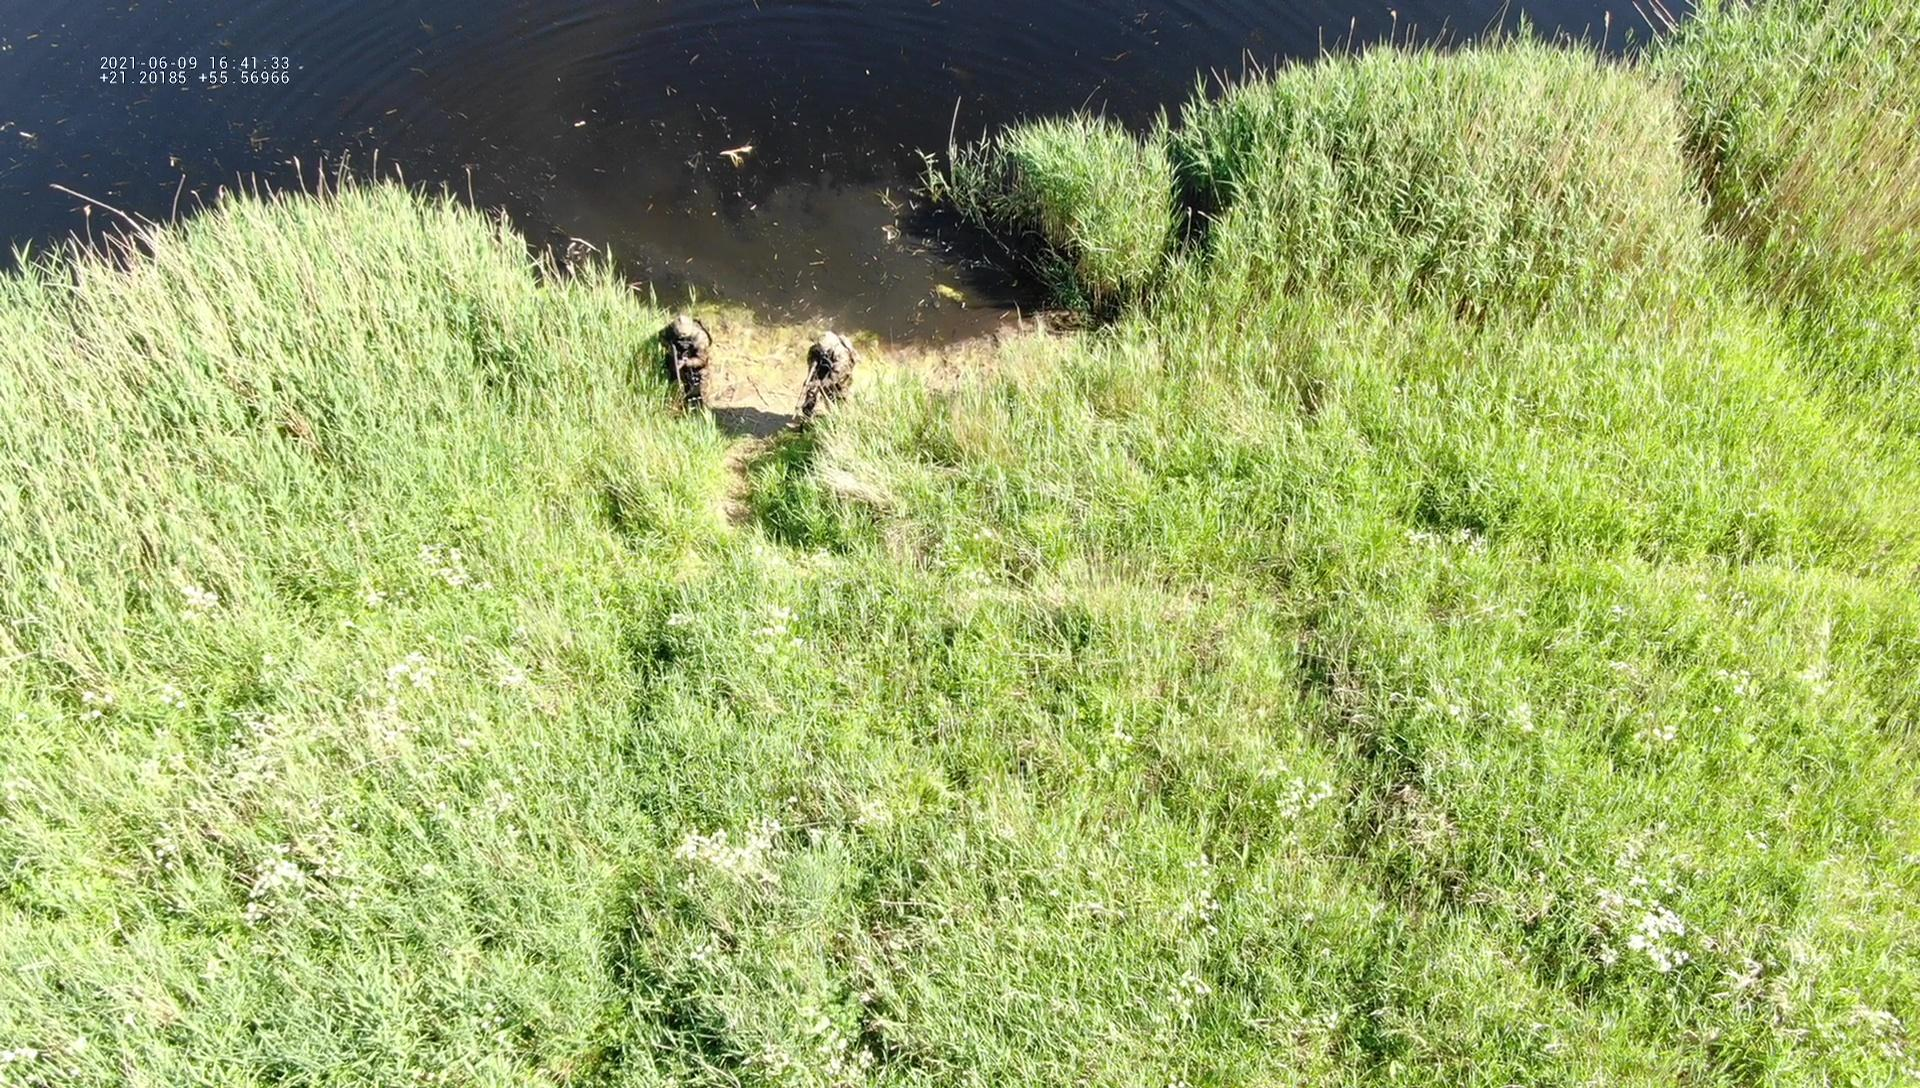Soldier: (793, 331, 862, 429), (657, 314, 713, 415)
